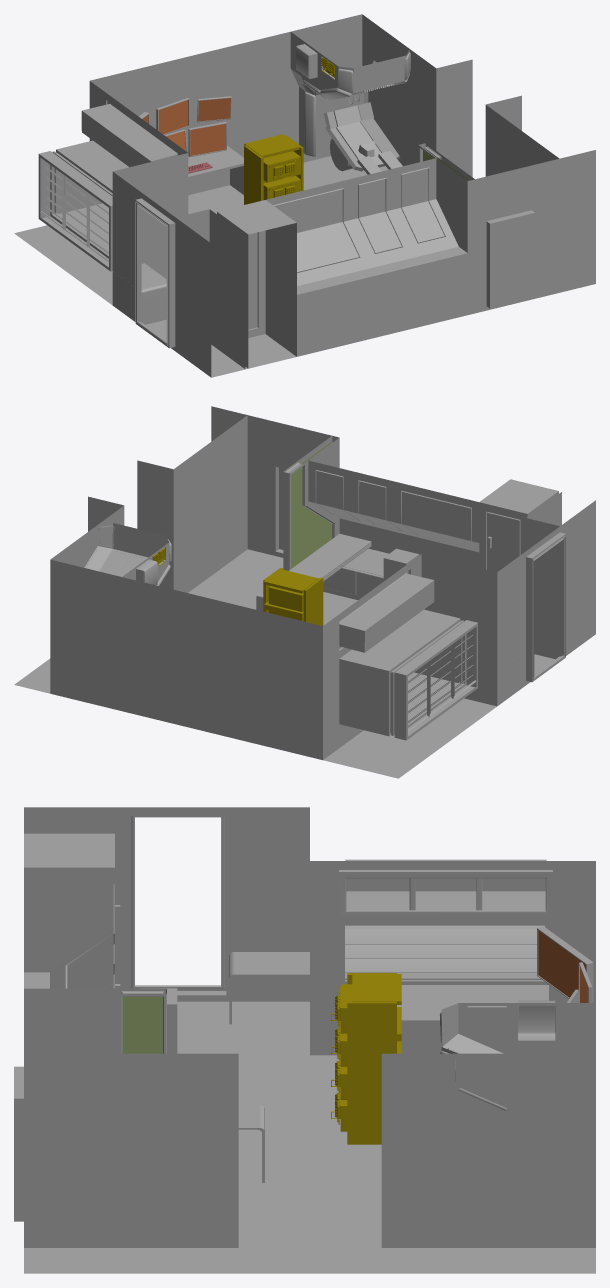
File: Apartment.fbx
3 views of the same model, one above another, from view 1: azimuth 30°, elevation 25°; view 2: azimuth 150°, elevation 25°; view 3: azimuth 270°, elevation 25° (orthographic). The views are drawn at different scales.
Parts seen in each view (by area): view 1: polySurface12470, polySurface11809, polySurface11811, polySurface11590, polySurface12472, polySurface11812, polySurface12440, m_apartment_floor_01, polySurface11806, polySurface11816, polySurface12072, polySurface11813 (+15 smaller); view 2: polySurface12470, polySurface12440, polySurface12476, polySurface11590, m_apartment_floor_01, polySurface11809, polySurface12230, polySurface11806, polySurface11812, polySurface12400, polySurface11808, polySurface11816 (+14 smaller); view 3: m_apartment_floor_01, polySurface12476, polySurface12472, polySurface12440, polySurface11590, polySurface11812, polySurface11808, m_prop_ServerRack_01, polySurface12072, polySurface11814, polySurface11662, polySurface11806 (+11 smaller).
Part boxes in pixels (x1,y1,x2,y2): polySurface12470: (90, 14, 362, 162); polySurface11809: (467, 150, 595, 314); polySurface11811: (297, 253, 467, 356); polySurface11590: (112, 172, 211, 377); polySurface12472: (362, 14, 472, 176); polySurface11812: (217, 200, 296, 368); polySurface12440: (38, 81, 187, 271); m_apartment_floor_01: (14, 156, 388, 377); polySurface11806: (266, 179, 381, 294); polySurface11816: (176, 209, 245, 368); polySurface12072: (290, 32, 409, 156); polySurface11813: (393, 158, 467, 263); polySurface12470: (50, 559, 322, 760); polySurface12440: (323, 554, 477, 759); polySurface12476: (137, 415, 247, 592); polySurface11590: (497, 500, 595, 705); m_apartment_floor_01: (14, 549, 554, 778); polySurface11809: (211, 406, 339, 557); polySurface12230: (421, 554, 497, 706); polySurface11806: (393, 481, 479, 552); polySurface11812: (479, 479, 558, 572); polySurface12400: (185, 691, 302, 754); polySurface11808: (339, 569, 434, 652); polySurface11816: (526, 492, 561, 659); m_apartment_floor_01: (24, 1001, 595, 1273); polySurface12476: (24, 1053, 238, 1247); polySurface12472: (381, 1053, 595, 1247); polySurface12440: (310, 861, 595, 1055); polySurface11590: (24, 807, 309, 1001); polySurface11812: (24, 833, 114, 972); polySurface11808: (339, 859, 552, 917); m_prop_ServerRack_01: (331, 973, 401, 1144); polySurface12072: (441, 1000, 595, 1053); polySurface11814: (24, 988, 166, 1053); polySurface11662: (345, 929, 536, 944); polySurface11806: (24, 883, 114, 988).
Bounding box in the file's own units: 916 × 300 × 814.
